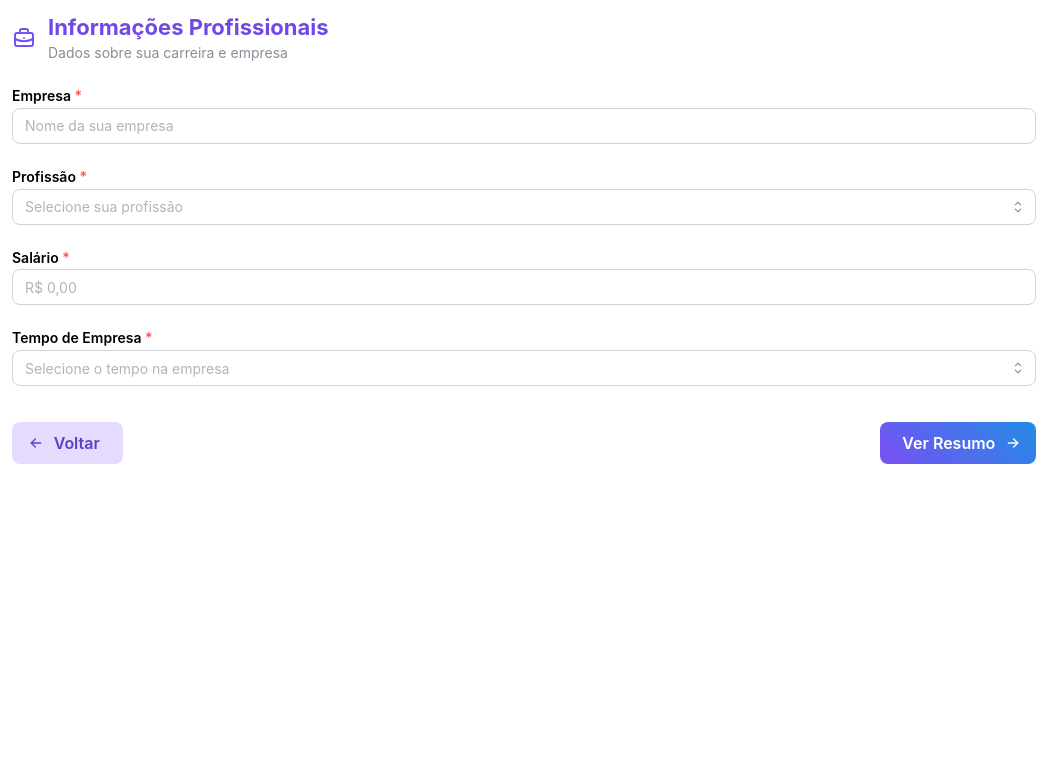
Test: Step3ProfessionalInfo › mostra erros de validação quando submete vazio
The image size is (1048, 780).
Click the button "Ver Resumo" at (958, 443), box left=880, top=422, right=1036, bottom=464
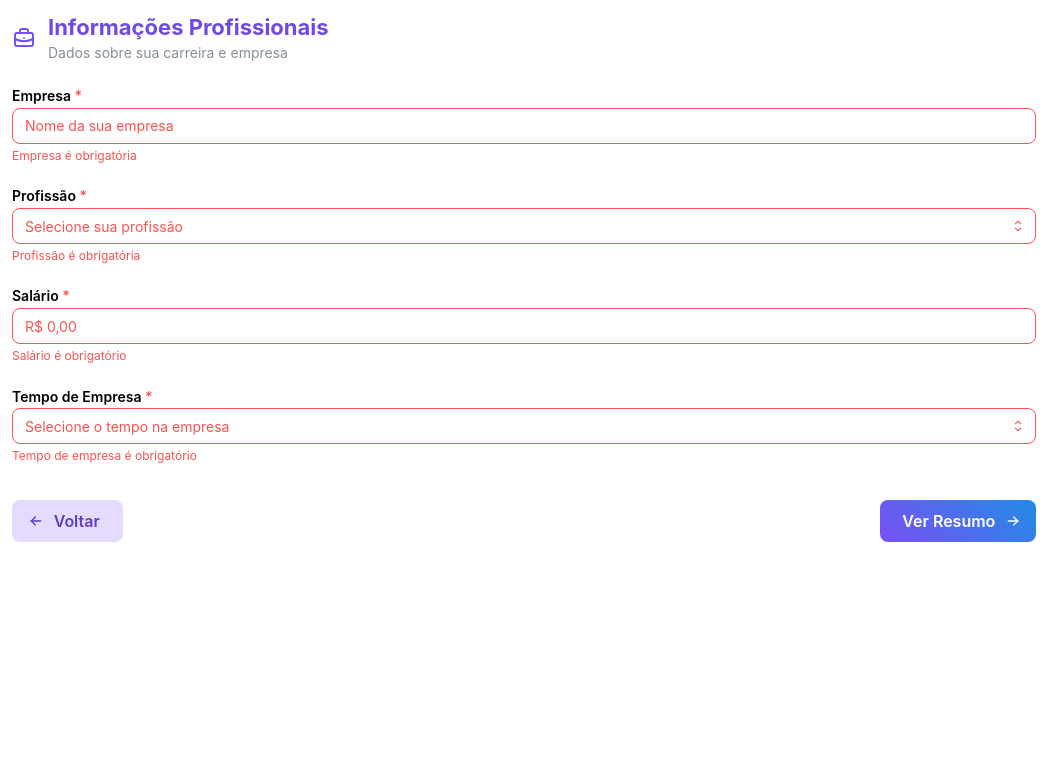
Expected: the text "Empresa é obrigatória" is shown, left=12, top=148, right=137, bottom=163
